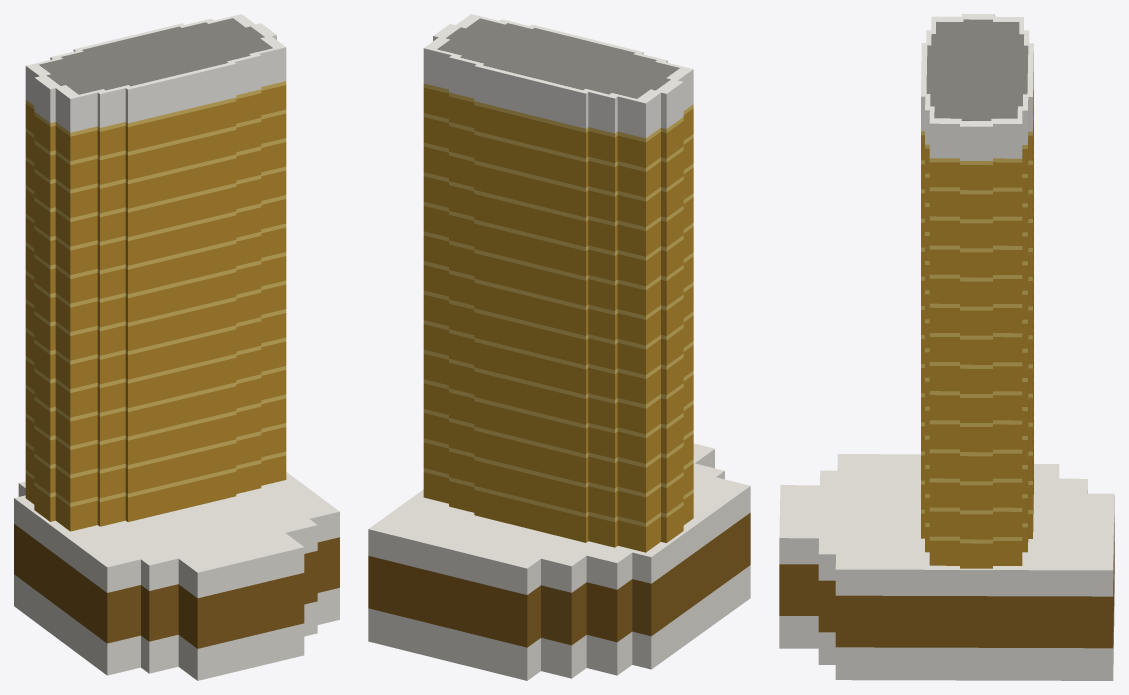
Rendered from trump.glb.
The picture shows the model from 3 angles, left to right: view 1: azimuth 30°, elevation 25°; view 2: azimuth 150°, elevation 25°; view 3: azimuth 270°, elevation 25°; orthographic projection. The views are drawn at different scales.
Visible parts, largest first — view 1: HotelTower; view 2: HotelTower; view 3: HotelTower.
Boxes of the visible parts, bbox=[...] form: HotelTower: bbox=[14, 14, 339, 680]; HotelTower: bbox=[368, 14, 750, 680]; HotelTower: bbox=[779, 14, 1114, 680].
Bounding box in the file's own units: 86.92 × 192 × 106.
